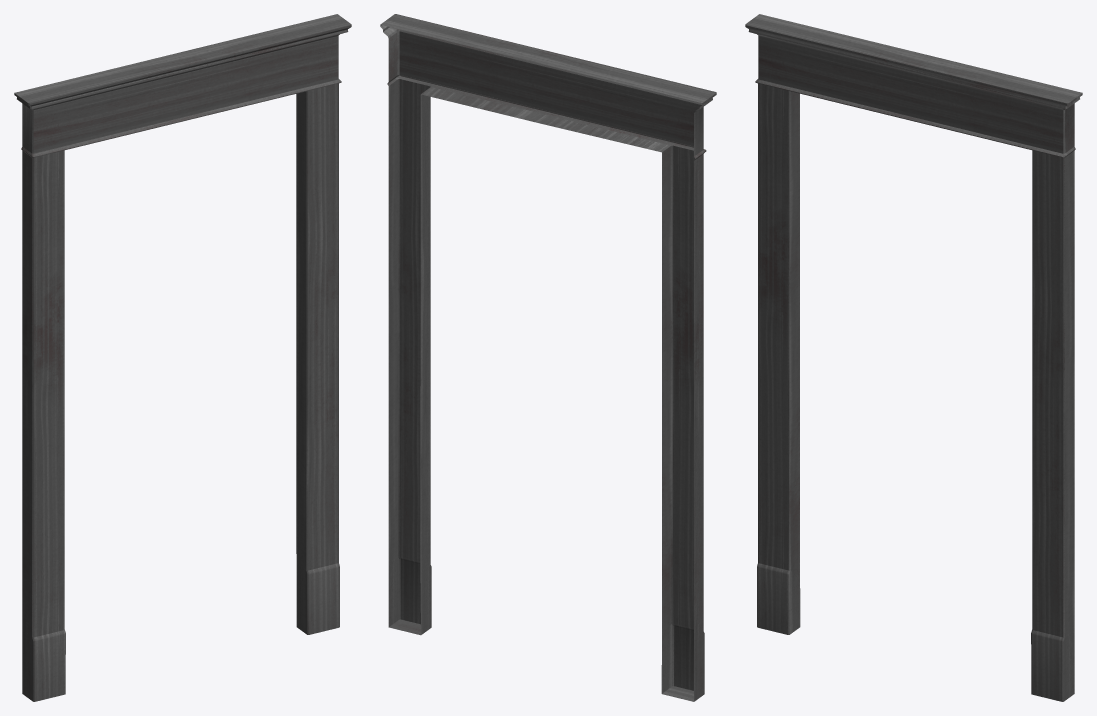
The model's file is SM_DoorFrame.fbx.
The picture shows the model from 3 angles, left to right: view 1: azimuth 30°, elevation 25°; view 2: azimuth 150°, elevation 25°; view 3: azimuth 330°, elevation 25°; orthographic projection.
Visible parts, largest first — view 1: SM_DoorFrame; view 2: SM_DoorFrame; view 3: SM_DoorFrame.
Part boxes in pixels (x1,y1,x2,y2): SM_DoorFrame: [14, 14, 351, 701]; SM_DoorFrame: [380, 14, 716, 701]; SM_DoorFrame: [745, 14, 1082, 701].
Size of the model in its own units: 129 by 231 by 10.62.
